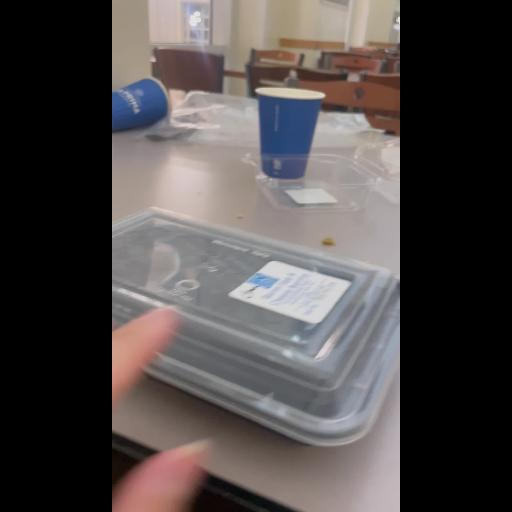lp_paper_cup: (256, 82, 314, 182), (112, 78, 170, 134)
rigid_plastic_container: (112, 213, 396, 437)
